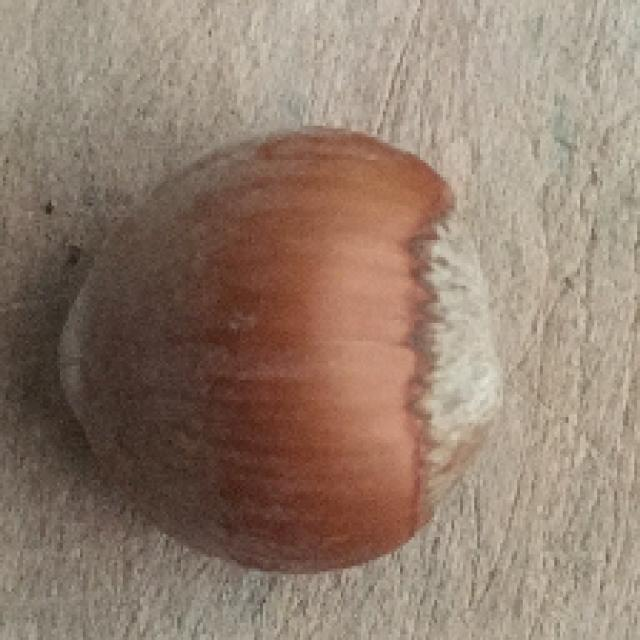qualityHazelnut: (58, 126, 502, 570)
